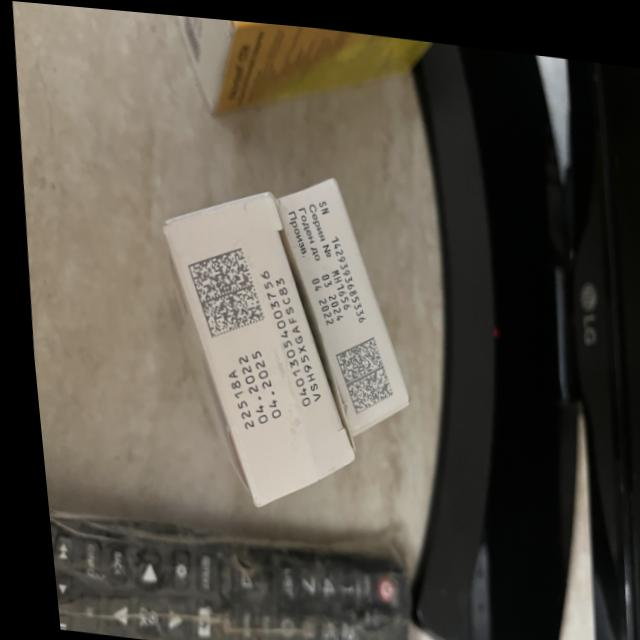datamatrix: (178, 237, 263, 341), (324, 326, 389, 414)
